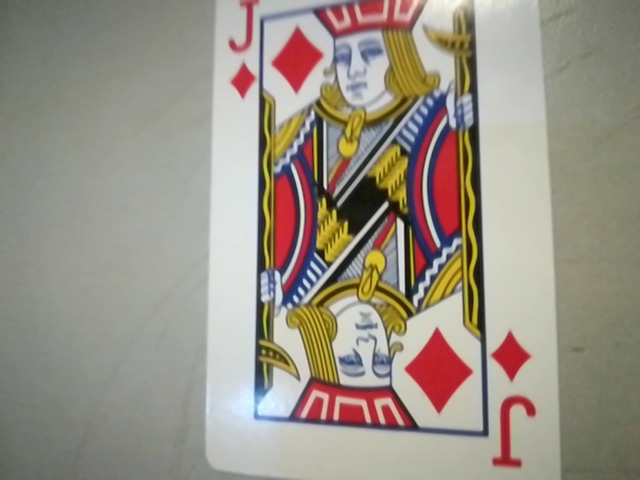fk j: (481, 323, 549, 476)
